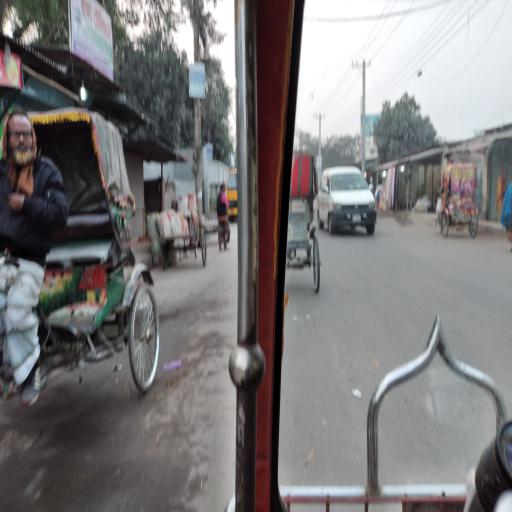rickshaw: (1, 105, 163, 410), (291, 149, 325, 297), (435, 161, 483, 243)
truck: (226, 165, 242, 222)
van: (319, 166, 380, 238)
